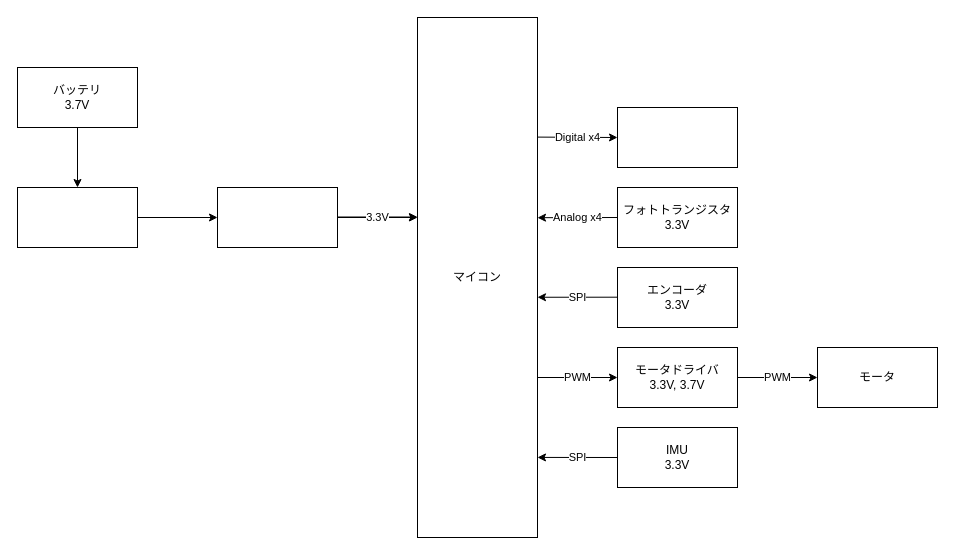
Some shapes in this 955 by 555 pixel diagram are drawn without their labels. Here are the shapes that lost their labels. From the top down, the centre of each, then its label:
At [677,137]: "赤外線LED 3.3V".
At [77,217]: "スイッチ".
At [277,217]: "3.3V電源".
